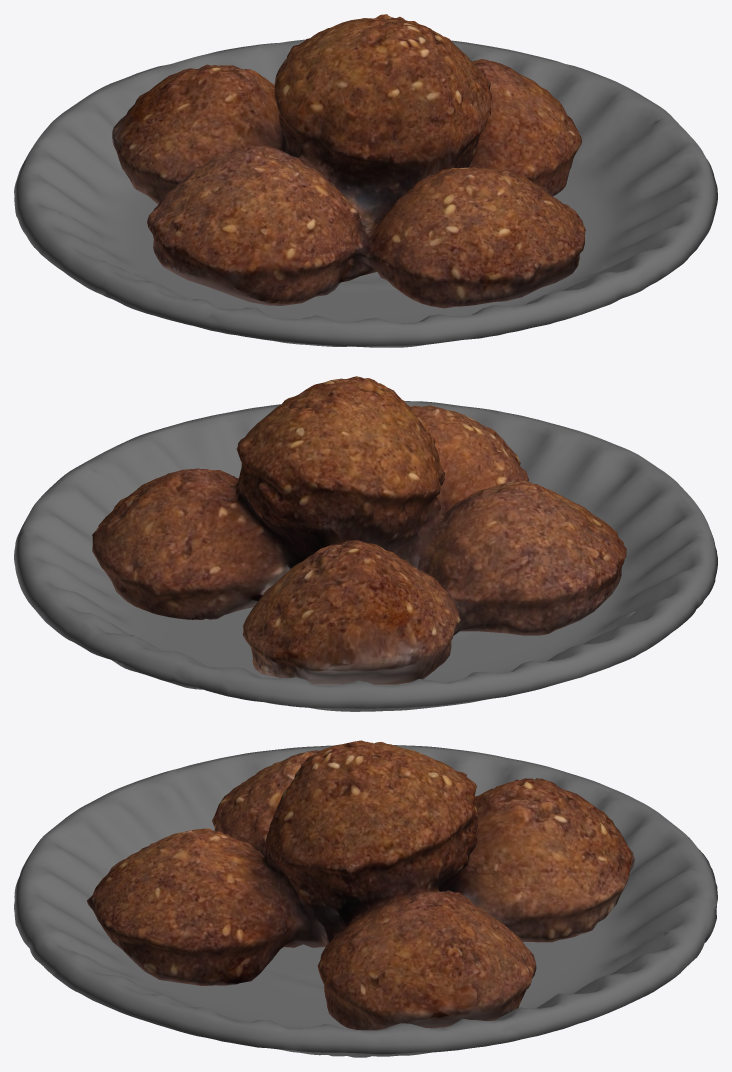
Rendered from felafel.pce1.glb.
3 views of the same model, one above another, from view 1: azimuth 30°, elevation 25°; view 2: azimuth 150°, elevation 25°; view 3: azimuth 270°, elevation 25° (orthographic).
Parts seen in each view (by area): view 1: 3DModel.001, Mesh_0.004; view 2: 3DModel.001, Mesh_0.004; view 3: 3DModel.001, Mesh_0.004.
Part boxes in pixels (x1,y1,x2,y2): 3DModel.001: (112,14,585,308); Mesh_0.004: (14,39,717,347); 3DModel.001: (92,376,626,684); Mesh_0.004: (14,401,717,711); 3DModel.001: (87,740,634,1030); Mesh_0.004: (14,745,717,1057).
Bounding box in the file's own units: 0.2157 × 0.0718 × 0.2158.
2 materials, 1 textured.
